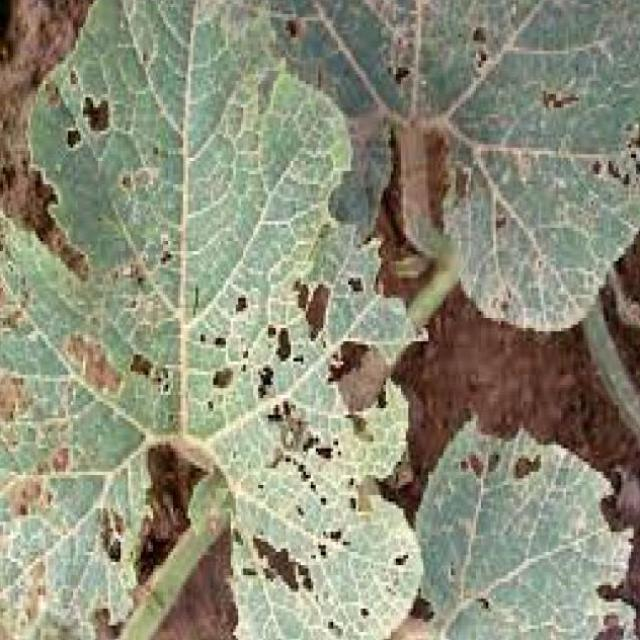Pumpkin Beetle: (1, 91, 422, 638), (470, 0, 640, 208), (448, 438, 564, 498)
